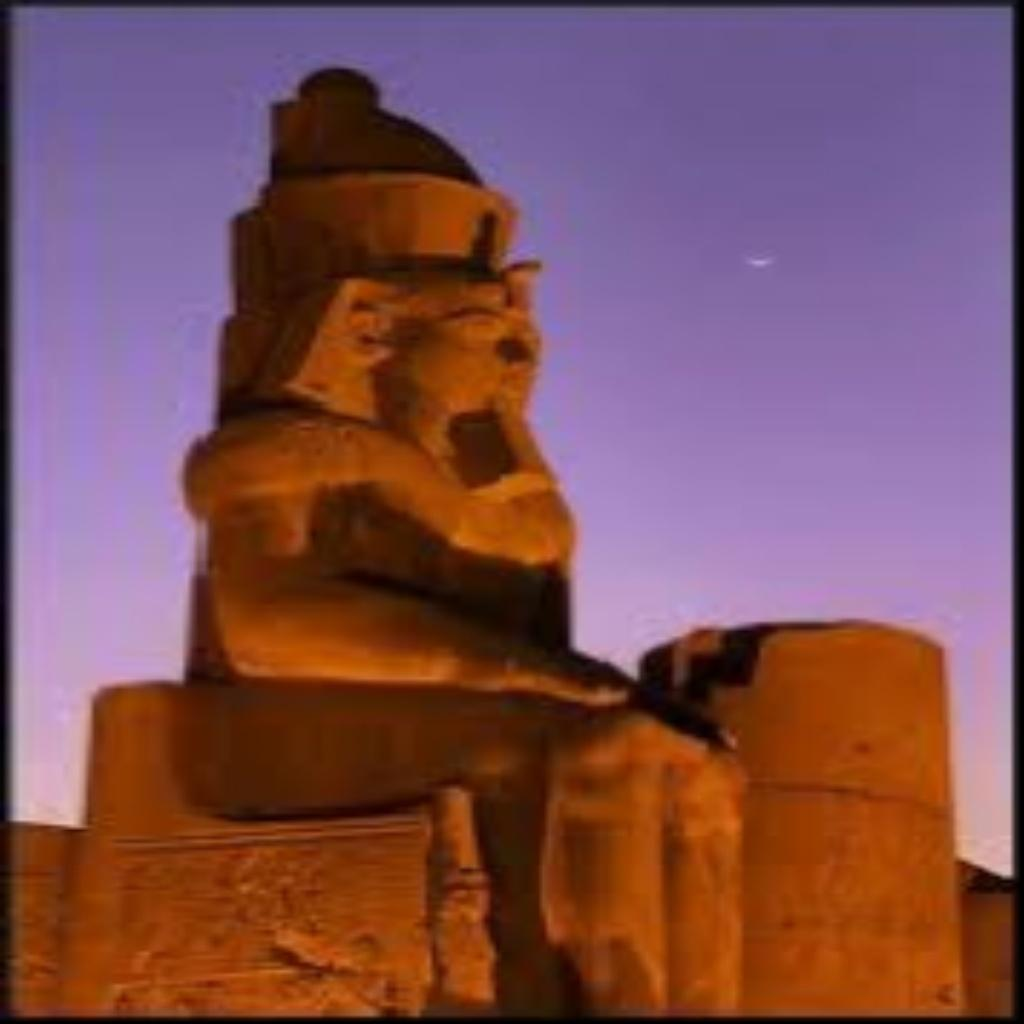Statue of King Ramses II Luxor Temple: (161, 65, 754, 1017)
